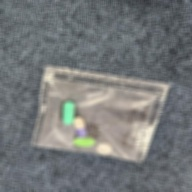러키펜정: (97, 143, 112, 155)
씨엠지세파클러캡슐: (73, 117, 88, 139)
에르도캡슐: (62, 100, 76, 125)
휴티렌정: (73, 137, 96, 148)
